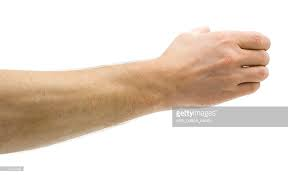hand: (138, 8, 279, 111)
